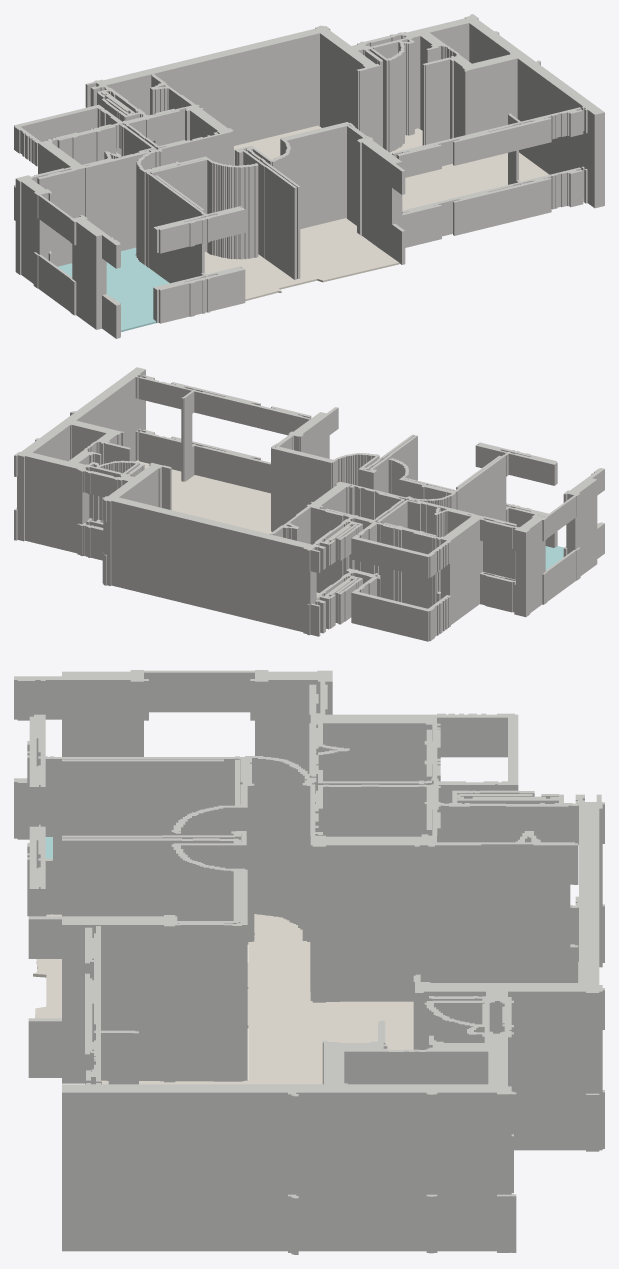
3 renders of one model, top to bottom at view 1: azimuth 30°, elevation 25°; view 2: azimuth 150°, elevation 25°; view 3: azimuth 270°, elevation 25°, orthographic. The views are drawn at different scales.
Visible parts, largest first — view 1: walls, room:other:5, room:bath:2; view 2: walls, room:other:5; view 3: walls, room:other:5.
Part boxes in pixels (box(x1,y1,x2,y2)): walls: box(14, 14, 604, 338); room:other:5: box(204, 125, 584, 300); room:bath:2: box(57, 247, 169, 331); walls: box(14, 367, 604, 641); room:other:5: box(135, 460, 319, 594); walls: box(14, 670, 604, 1254); room:other:5: box(33, 914, 578, 1084).
Bounding box in the file's own units: 16.12 × 2.8 × 9.45.
